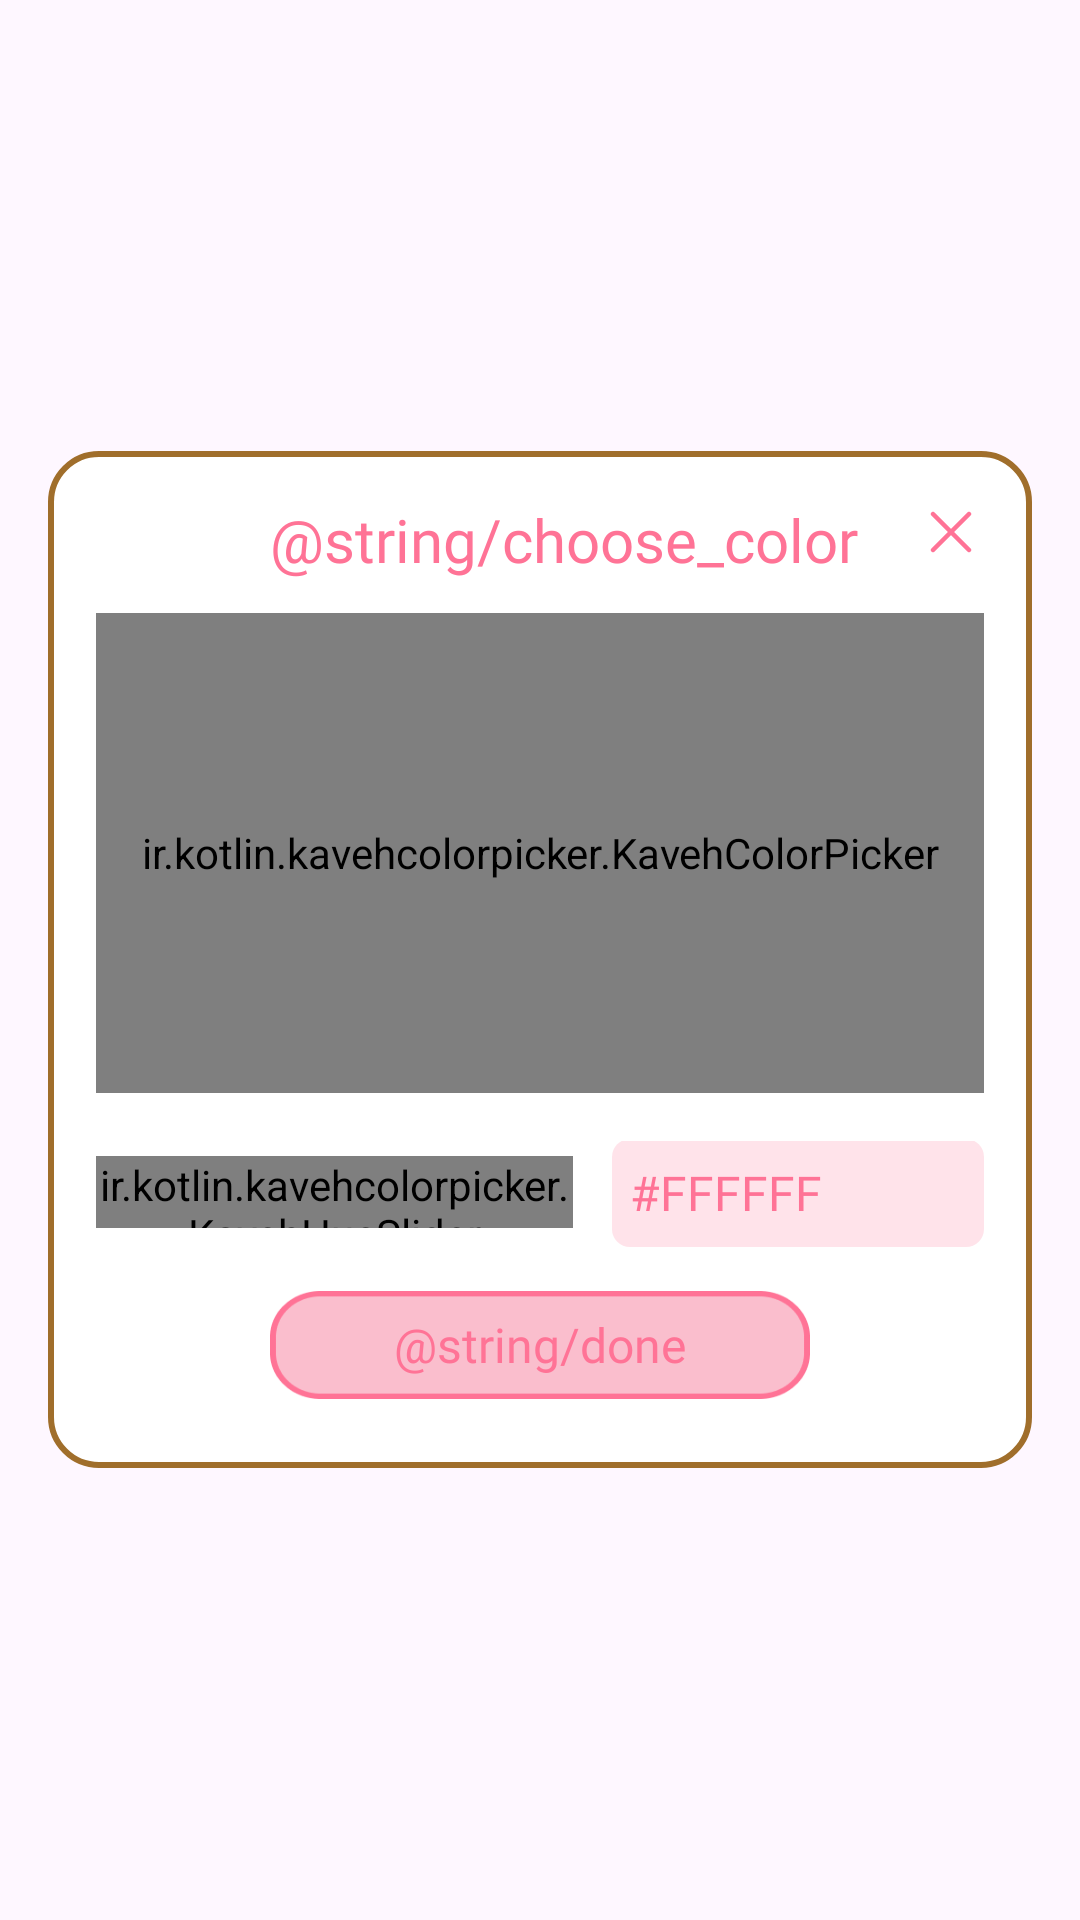

Point at icon controls on the screen. Image size 1080px×1920px, points as (x=x, y=y).
close pick: (x=951, y=532)
